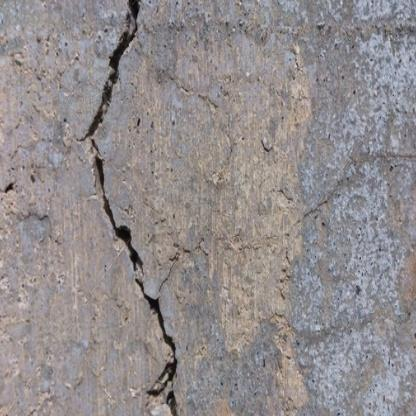Cracks: (76, 0, 187, 416)
